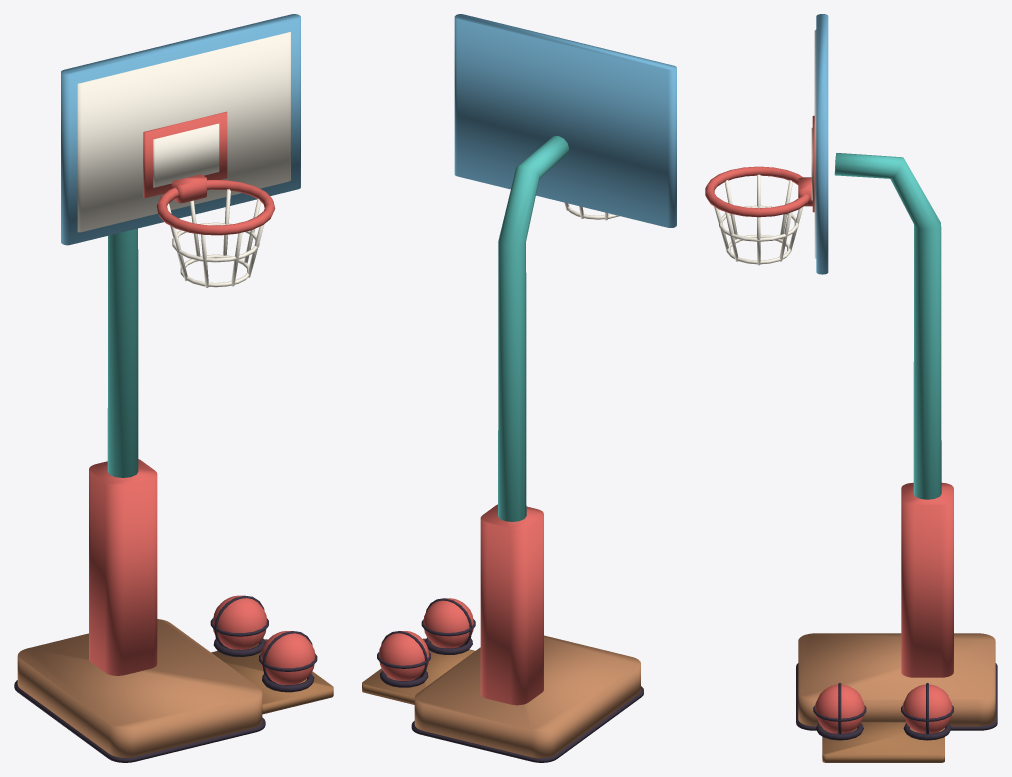
File: basketball-hoop.glb
The picture shows the model from 3 angles, left to right: view 1: azimuth 30°, elevation 25°; view 2: azimuth 150°, elevation 25°; view 3: azimuth 270°, elevation 25°; orthographic projection. The views are drawn at different scales.
Parts seen in each view (by area): view 1: YardBasketballHoop_CreamBoardAndNet, YardBasketballHoop_CoralRimPadBalls, YardBasketballHoop_TerracottaBase, YardBasketballHoop_CeruleanFrame, YardBasketballHoop_TurquoisePole, YardBasketballHoop_SlateSeamsAndPads, YardBasketballHoop_WoodRack; view 2: YardBasketballHoop_CeruleanFrame, YardBasketballHoop_TerracottaBase, YardBasketballHoop_CoralRimPadBalls, YardBasketballHoop_TurquoisePole, YardBasketballHoop_SlateSeamsAndPads, YardBasketballHoop_WoodRack; view 3: YardBasketballHoop_CoralRimPadBalls, YardBasketballHoop_TerracottaBase, YardBasketballHoop_TurquoisePole, YardBasketballHoop_WoodRack, YardBasketballHoop_CeruleanFrame, YardBasketballHoop_CreamBoardAndNet, YardBasketballHoop_SlateSeamsAndPads.
Part boxes in pixels (left/top/right/bottom): YardBasketballHoop_CreamBoardAndNet: left=77, top=32, right=290, bottom=287; YardBasketballHoop_CoralRimPadBalls: left=89, top=111, right=315, bottom=684; YardBasketballHoop_TerracottaBase: left=17, top=619, right=262, bottom=757; YardBasketballHoop_CeruleanFrame: left=61, top=14, right=300, bottom=245; YardBasketballHoop_TurquoisePole: left=107, top=228, right=138, bottom=477; YardBasketballHoop_SlateSeamsAndPads: left=14, top=595, right=317, bottom=762; YardBasketballHoop_WoodRack: left=211, top=639, right=333, bottom=714; YardBasketballHoop_CeruleanFrame: left=454, top=14, right=676, bottom=227; YardBasketballHoop_TerracottaBase: left=414, top=635, right=640, bottom=758; YardBasketballHoop_CoralRimPadBalls: left=379, top=504, right=543, bottom=705; YardBasketballHoop_TurquoisePole: left=498, top=136, right=568, bottom=521; YardBasketballHoop_SlateSeamsAndPads: left=377, top=598, right=643, bottom=762; YardBasketballHoop_WoodRack: left=362, top=638, right=474, bottom=704; YardBasketballHoop_CoralRimPadBalls: left=705, top=115, right=953, bottom=733; YardBasketballHoop_TerracottaBase: left=798, top=633, right=995, bottom=726; YardBasketballHoop_TurquoisePole: left=834, top=153, right=941, bottom=499; YardBasketballHoop_WoodRack: left=822, top=721, right=944, bottom=762; YardBasketballHoop_CeruleanFrame: left=816, top=14, right=828, bottom=274; YardBasketballHoop_CreamBoardAndNet: left=714, top=29, right=816, bottom=265; YardBasketballHoop_SlateSeamsAndPads: left=796, top=663, right=997, bottom=740.
Size of the model in its own units: 1.31 by 3.17 by 1.33.
